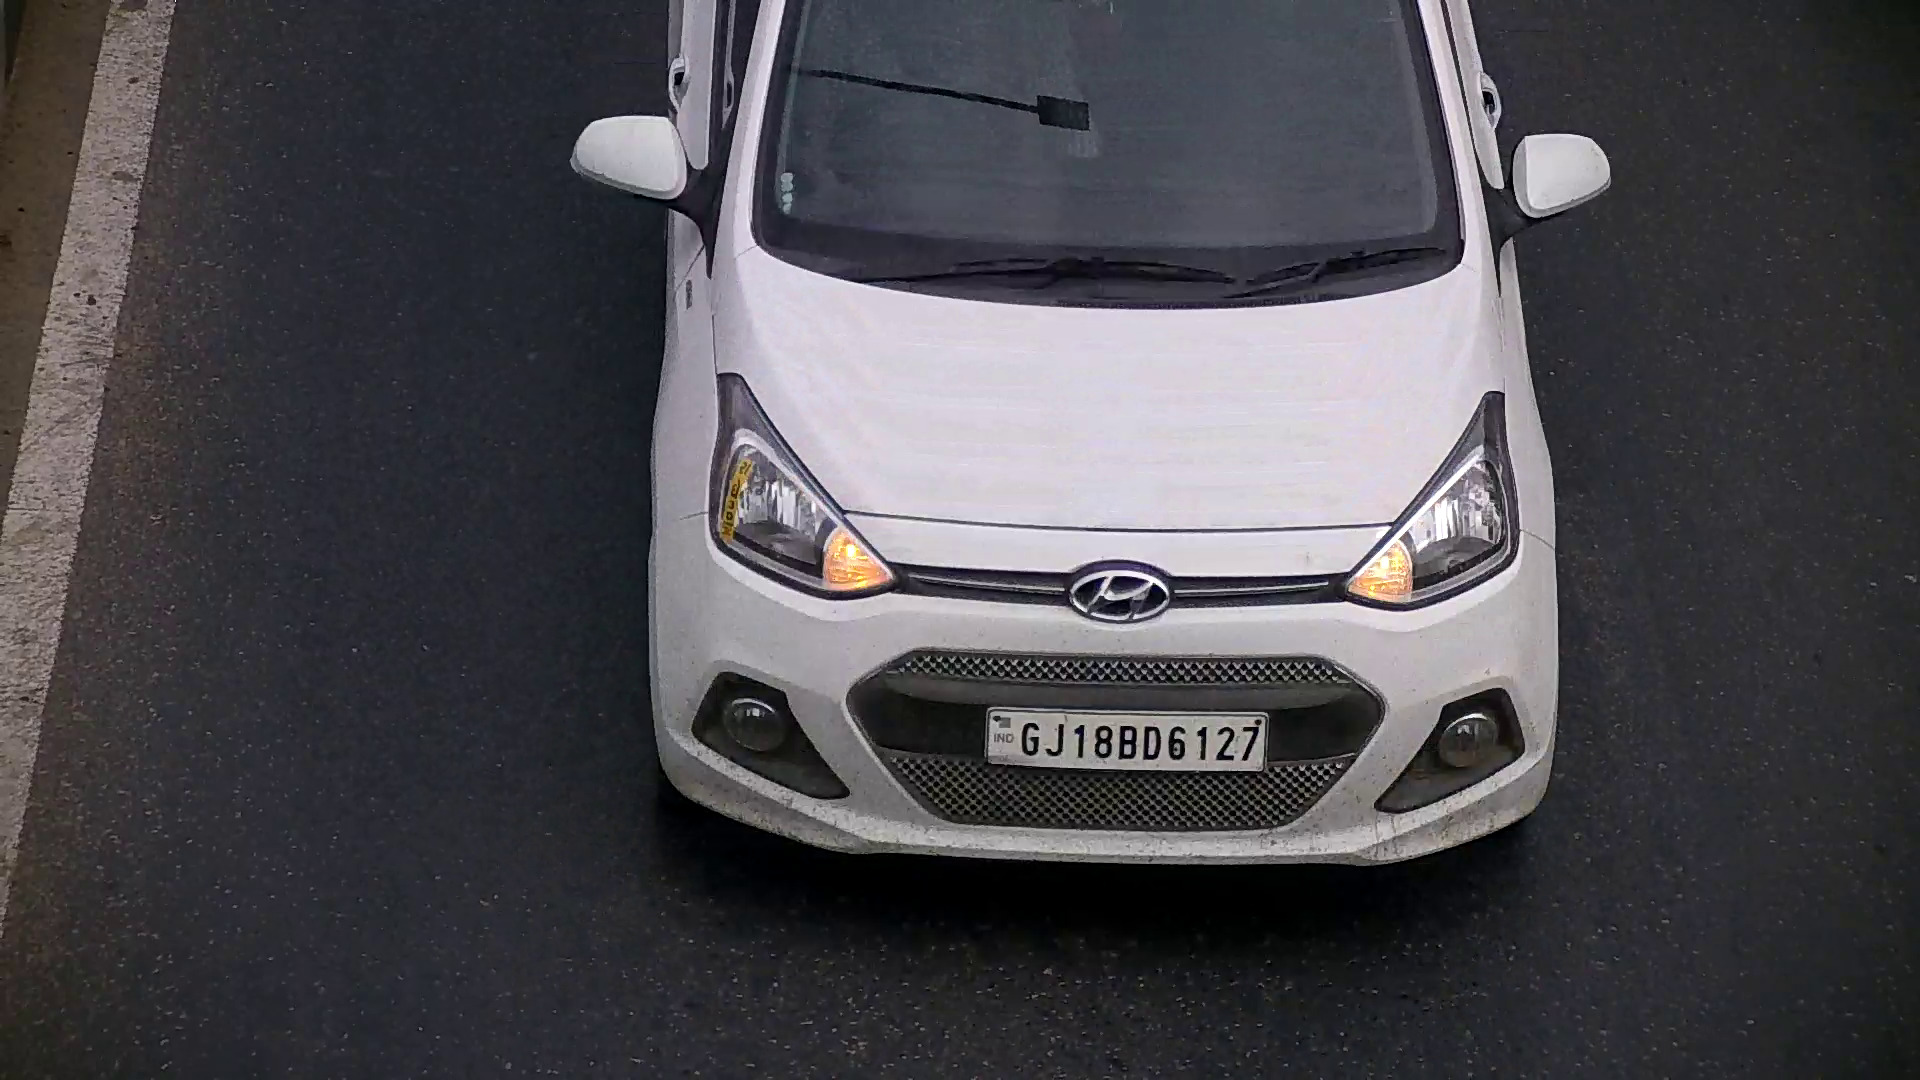numberplate: (981, 699, 1273, 775)
